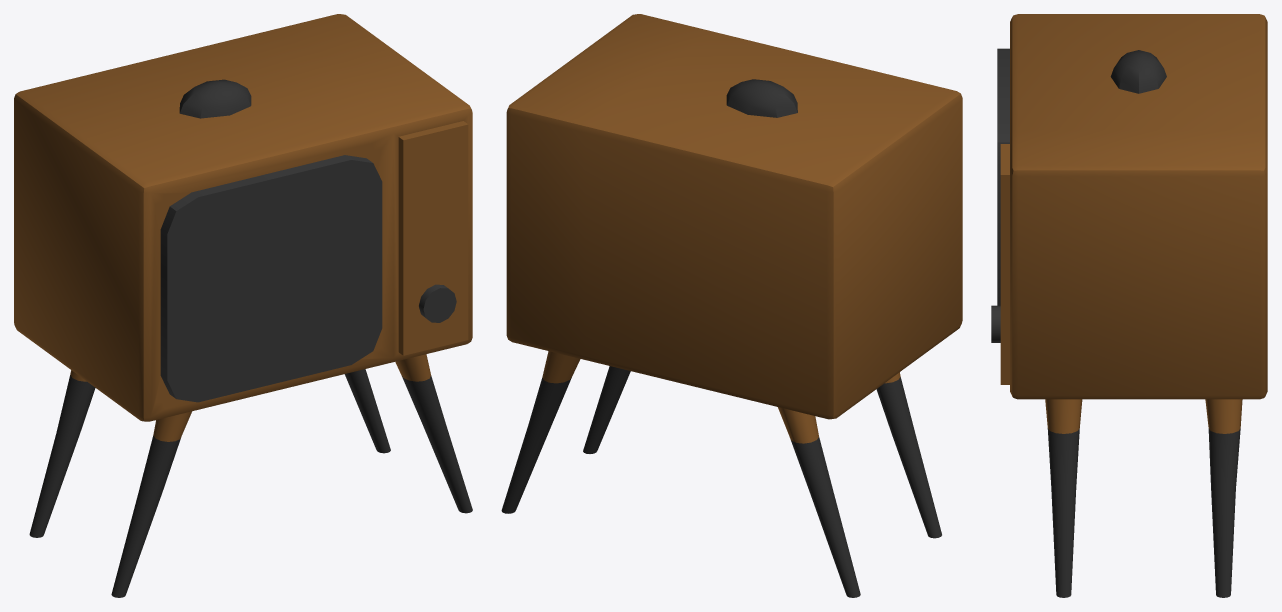
The model's file is decor_TV.fbx.
3 views of the same model, side by side, from view 1: azimuth 30°, elevation 25°; view 2: azimuth 150°, elevation 25°; view 3: azimuth 270°, elevation 25° (orthographic). The views are drawn at different scales.
Parts seen in each view (by area): view 1: Cube; view 2: Cube; view 3: Cube.
Part boxes in pixels (left/top/right/bottom): Cube: left=14, top=14, right=472, bottom=597; Cube: left=501, top=14, right=962, bottom=597; Cube: left=991, top=14, right=1267, bottom=597.
Size of the model in its own units: 92.16 by 110 by 62.98.
